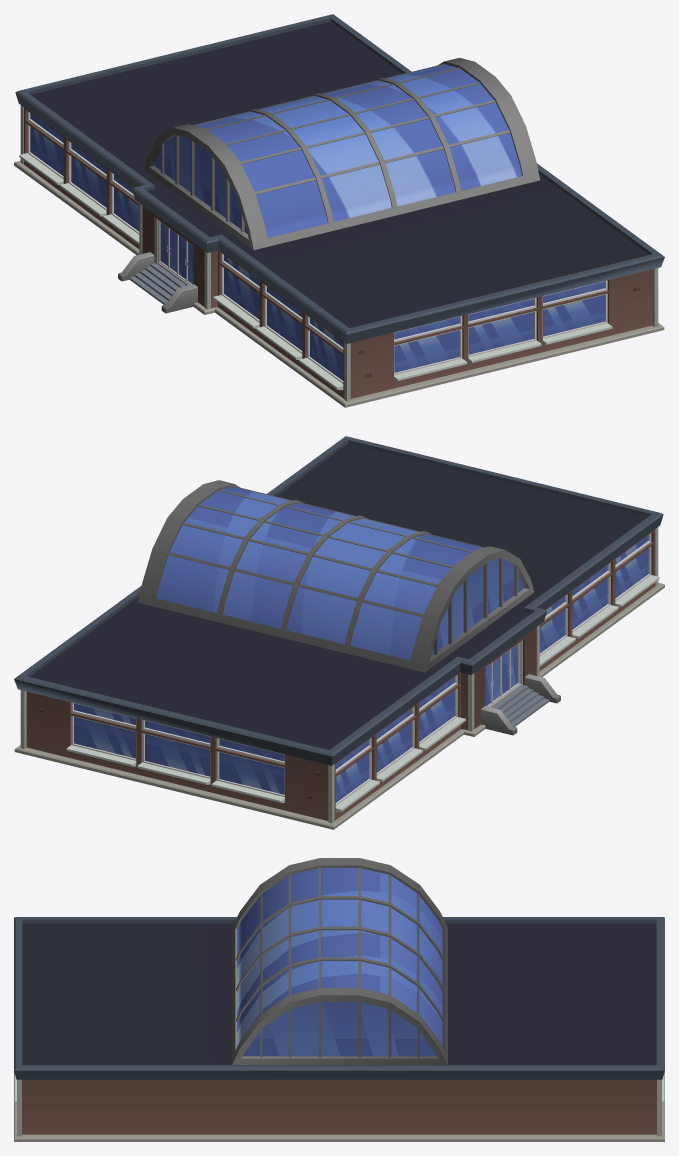
File: Building_16_2_C.glb
The picture shows the model from 3 angles, top to bottom: view 1: azimuth 30°, elevation 25°; view 2: azimuth 150°, elevation 25°; view 3: azimuth 270°, elevation 25°; orthographic projection.
Parts seen in each view (by area): view 1: Building_16_2_C; view 2: Building_16_2_C; view 3: Building_16_2_C.
Part boxes in pixels (left/top/right/bottom): Building_16_2_C: left=14, top=14, right=664, bottom=407; Building_16_2_C: left=14, top=436, right=664, bottom=829; Building_16_2_C: left=14, top=858, right=664, bottom=1141.
Size of the model in its own units: 18.88 by 7.18 by 30.26.
3 materials, 3 textured.
